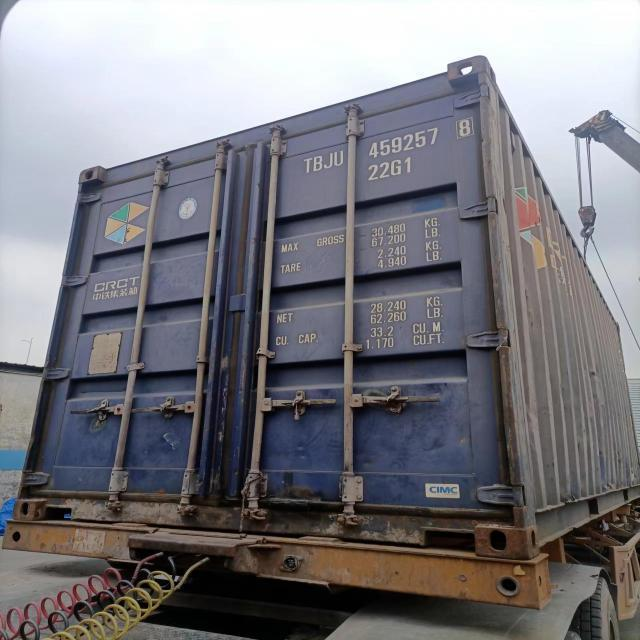ISO: (368, 159, 412, 178)
container_number: (300, 120, 483, 172)
